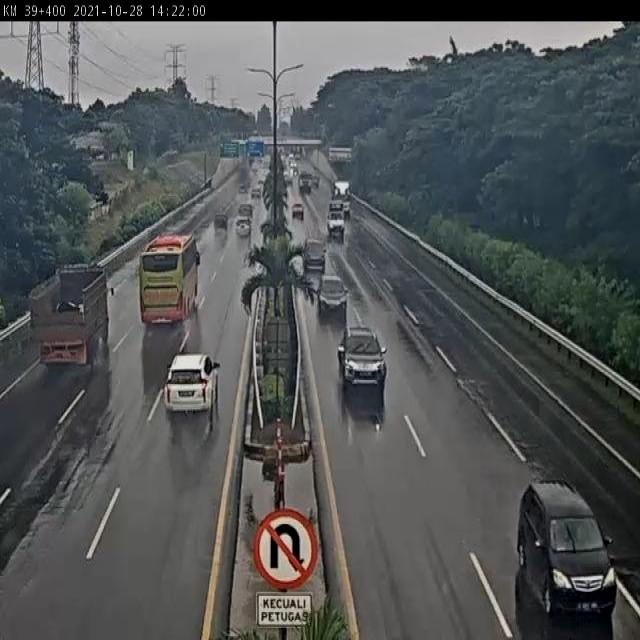Bus: (139, 235, 201, 328)
Car: (518, 479, 618, 619), (162, 351, 220, 418), (337, 323, 387, 396), (318, 273, 347, 316), (304, 238, 327, 274), (327, 210, 345, 240), (235, 217, 252, 238), (238, 204, 254, 222), (290, 203, 305, 220)
Truck: (26, 263, 117, 367), (330, 178, 352, 216), (299, 172, 313, 193)
